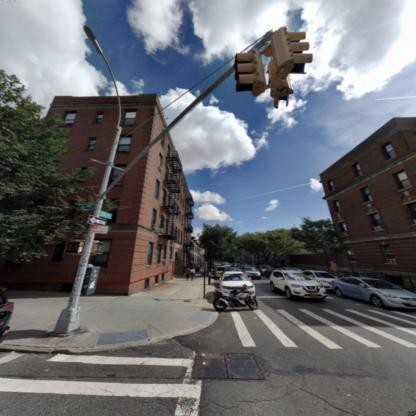Streetlights 1: (42, 14, 137, 348)
